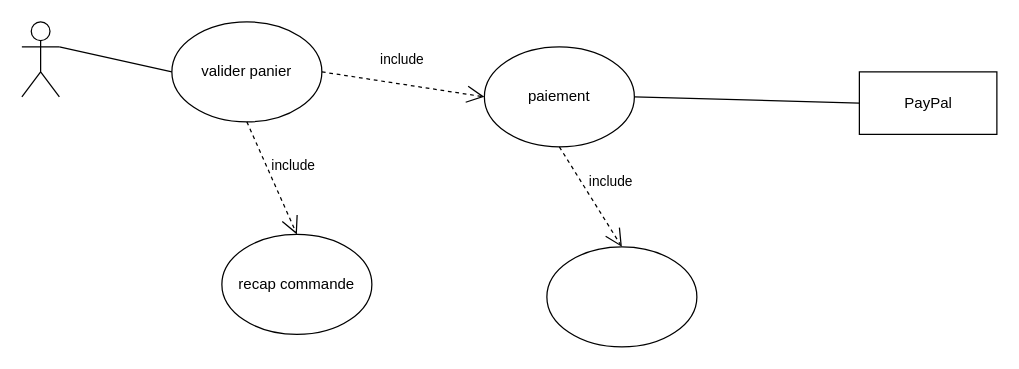
The diagram is 1019 pixels wide and 369 high, and some of its shapes have lost their labels. Here are the shapes that lost their labels. From the top down, the box of each, then its label:
(21, 21, 59, 97): client
(546, 246, 697, 347): création suivi
